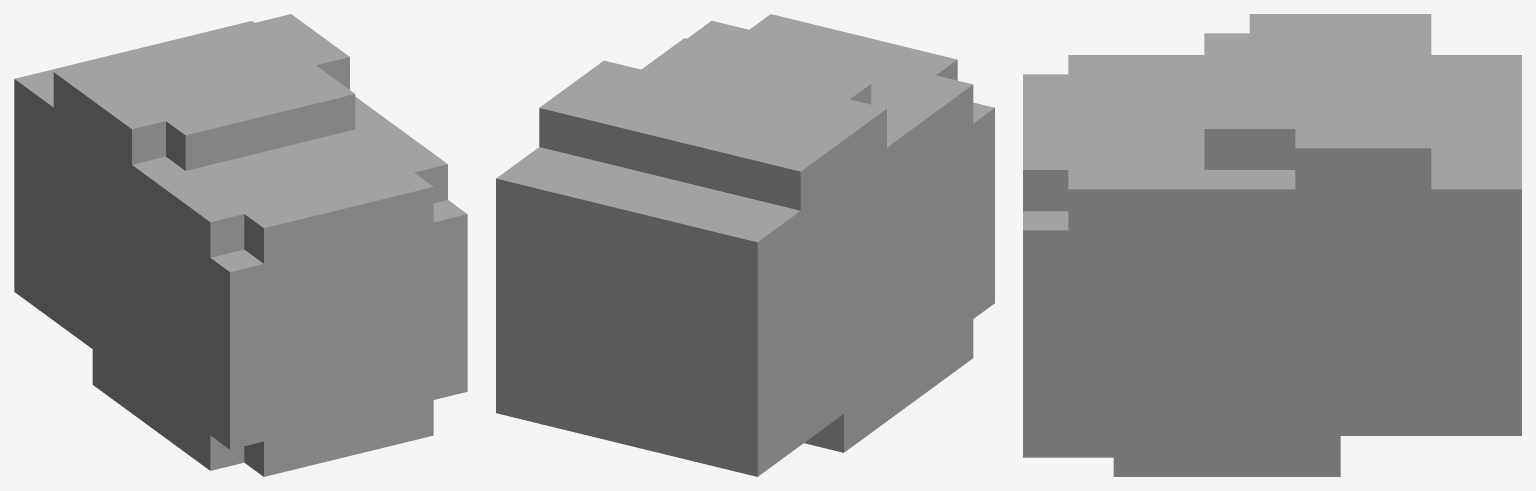
The model's file is gorilla-13-L_Leg.obj.
The picture shows the model from 3 angles, left to right: view 1: azimuth 30°, elevation 25°; view 2: azimuth 150°, elevation 25°; view 3: azimuth 270°, elevation 25°; orthographic projection. The views are drawn at different scales.
Parts seen in each view (by area): view 1: L_Leg; view 2: L_Leg; view 3: L_Leg.
Boxes of the visible parts, bbox=[...] form: L_Leg: bbox=[14, 14, 467, 476]; L_Leg: bbox=[496, 14, 994, 476]; L_Leg: bbox=[1023, 14, 1521, 476].
Size of the model in its own units: 0.7 by 0.8 by 1.1.
1 material, 1 textured.
